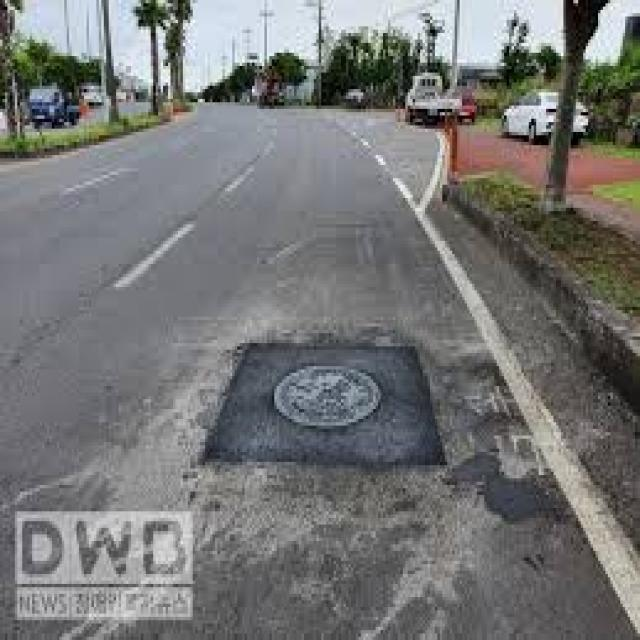manhole: (274, 365, 381, 428)
